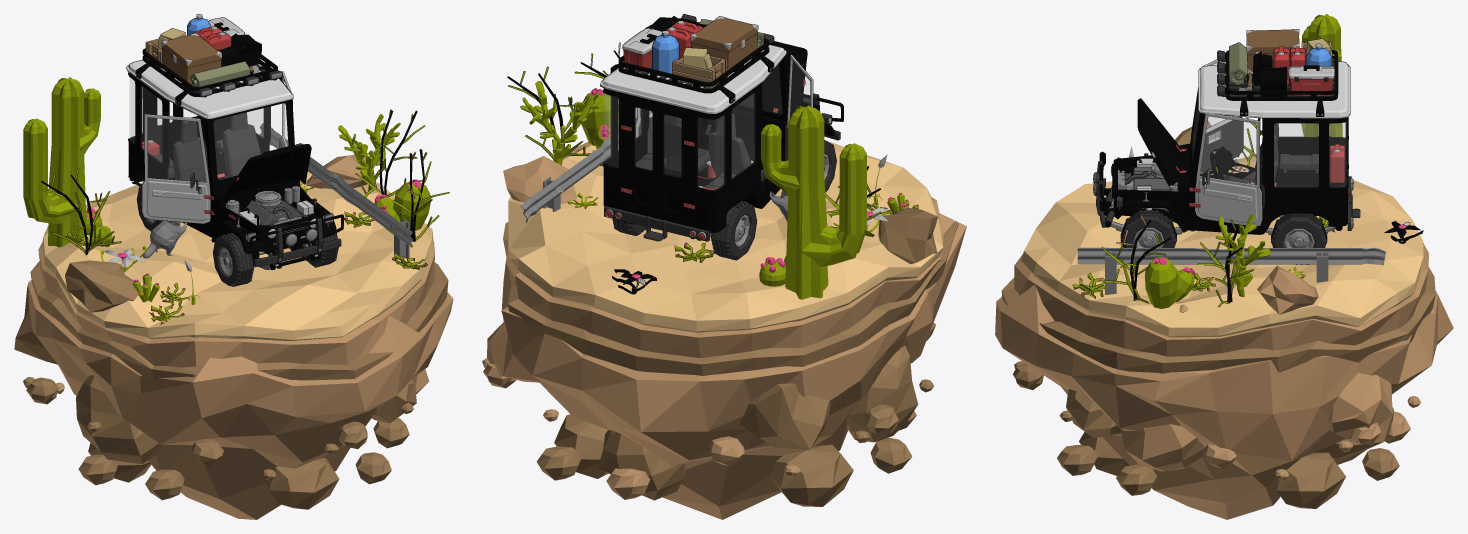
File: desert_w_Car.fbx
The picture shows the model from 3 angles, left to right: view 1: azimuth 30°, elevation 25°; view 2: azimuth 150°, elevation 25°; view 3: azimuth 270°, elevation 25°; orthographic projection. The views are drawn at different scales.
Parts seen in each view (by area): view 1: terrain_terrain_0, body_body_0, body001outline_body001outline_0, glass_glass_0, body_body_0.001, terrain001outline_terrain001outline_0.001, terrain_terrain_0.001, body001outline_body001outline_0.001; view 2: terrain_terrain_0, body001outline_body001outline_0, body_body_0, glass_glass_0, body_body_0.001, terrain001outline_terrain001outline_0.001, body001outline_body001outline_0.001, terrain_terrain_0.001; view 3: terrain_terrain_0, body001outline_body001outline_0, body_body_0, body_body_0.001, glass_glass_0, body001outline_body001outline_0.001, terrain001outline_terrain001outline_0.001, terrain_terrain_0.001.
Part boxes in pixels (x1=…): terrain_terrain_0: x1=14, y1=77, x2=453, y2=519; body_body_0: x1=126, y1=14, x2=340, y2=286; body001outline_body001outline_0: x1=126, y1=14, x2=341, y2=286; glass_glass_0: x1=129, y1=77, x2=288, y2=182; body_body_0.001: x1=130, y1=71, x2=316, y2=261; terrain001outline_terrain001outline_0.001: x1=39, y1=109, x2=449, y2=323; terrain_terrain_0.001: x1=39, y1=110, x2=449, y2=324; body001outline_body001outline_0.001: x1=129, y1=71, x2=343, y2=261; terrain_terrain_0: x1=482, y1=68, x2=966, y2=519; body001outline_body001outline_0: x1=600, y1=14, x2=840, y2=241; body_body_0: x1=600, y1=14, x2=840, y2=240; glass_glass_0: x1=604, y1=61, x2=809, y2=189; body_body_0.001: x1=613, y1=108, x2=766, y2=260; terrain001outline_terrain001outline_0.001: x1=507, y1=42, x2=899, y2=294; body001outline_body001outline_0.001: x1=612, y1=93, x2=843, y2=259; terrain_terrain_0.001: x1=508, y1=42, x2=892, y2=288; terrain_terrain_0: x1=995, y1=14, x2=1453, y2=519; body001outline_body001outline_0: x1=1097, y1=29, x2=1360, y2=247; body_body_0: x1=1093, y1=29, x2=1359, y2=247; body_body_0.001: x1=1142, y1=113, x2=1352, y2=264; glass_glass_0: x1=1194, y1=63, x2=1345, y2=186; body001outline_body001outline_0.001: x1=1093, y1=113, x2=1353, y2=247; terrain001outline_terrain001outline_0.001: x1=1072, y1=117, x2=1423, y2=307; terrain_terrain_0.001: x1=1073, y1=118, x2=1409, y2=306.
Size of the model in its own units: 710 by 855 by 744.
